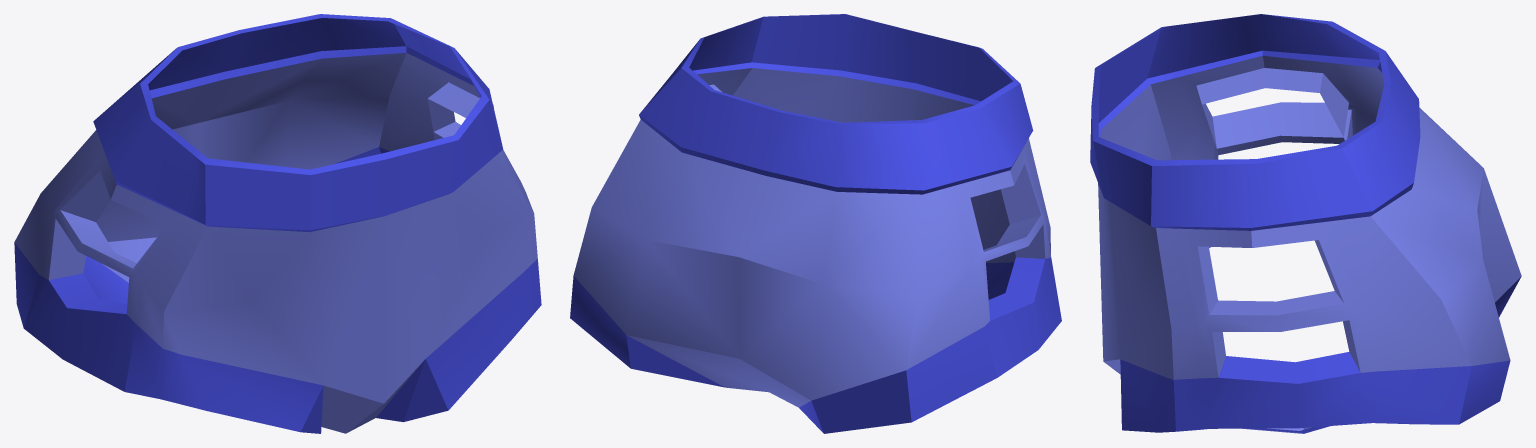
File: UnderPants01F.001.fbx
3 renders of one model, left to right at view 1: azimuth 30°, elevation 25°; view 2: azimuth 150°, elevation 25°; view 3: azimuth 270°, elevation 25°, orthographic. The views are drawn at different scales.
Parts seen in each view (by area): view 1: UnderPants01F.001; view 2: UnderPants01F.001; view 3: UnderPants01F.001.
Part boxes in pixels (bbox=[...]): UnderPants01F.001: bbox=[14, 14, 541, 433]; UnderPants01F.001: bbox=[570, 14, 1061, 433]; UnderPants01F.001: bbox=[1090, 14, 1521, 433].
Bounding box in the file's own units: 36.04 × 26.35 × 29.39.
